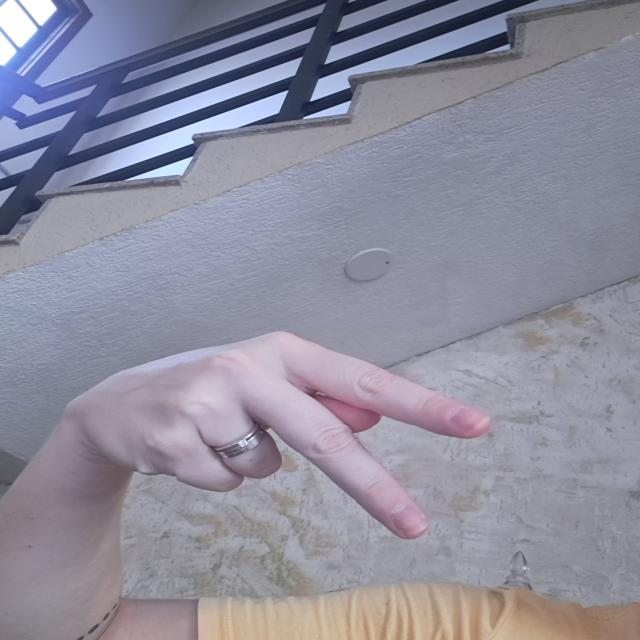P: (66, 325, 504, 553)
